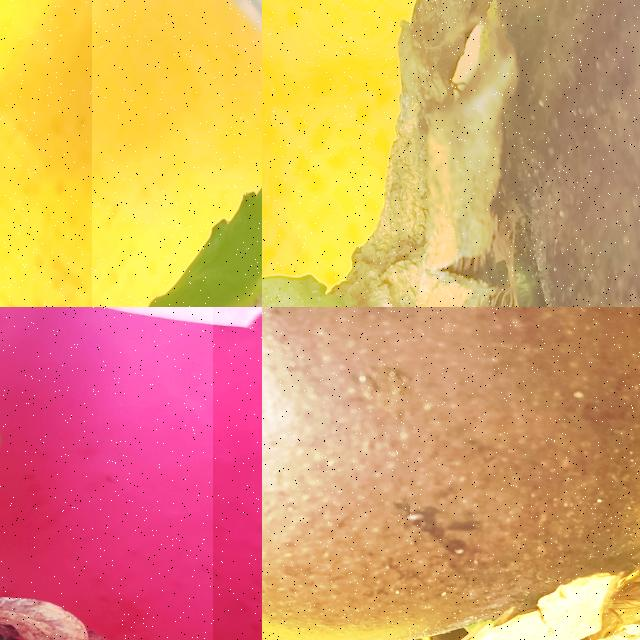Estado-6: (262, 307, 640, 640), (262, 0, 640, 307)
